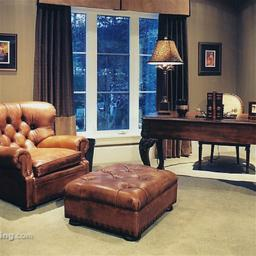Ventana: (53, 11, 170, 130)
